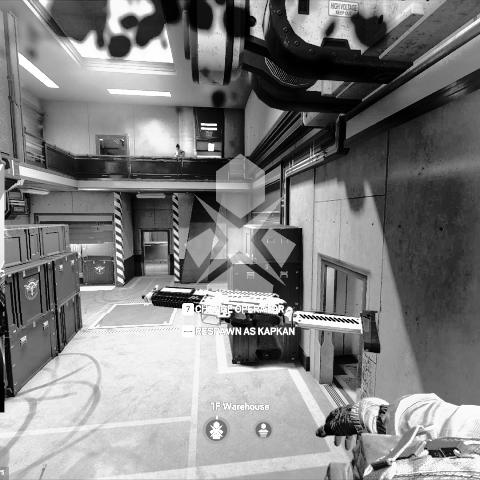Character: (172, 143, 186, 158)
Head: (175, 143, 181, 150)
